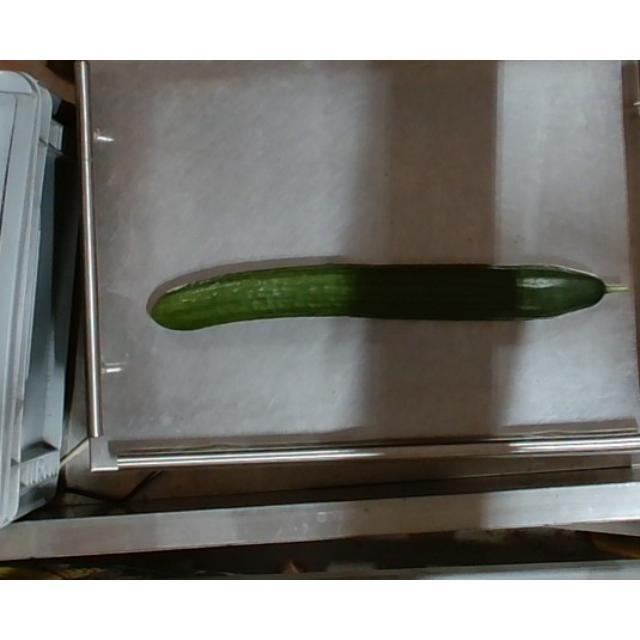cucumber: (145, 264, 640, 334)
